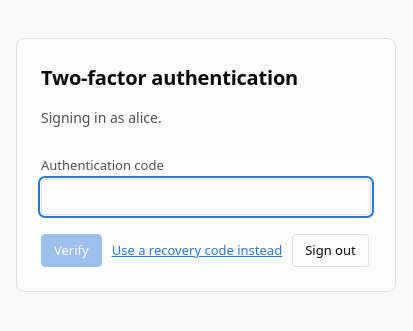
Test: TotpStep › the toggle goes back to the authentication code
Click the button "Use a recovery code instead" at (197, 251), box [112,241,282,260]
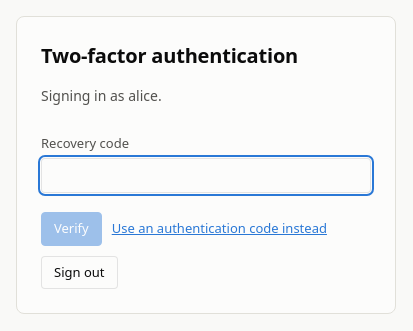
Click the button "Use an authentication code instead" at (219, 229), box [112,219,327,238]
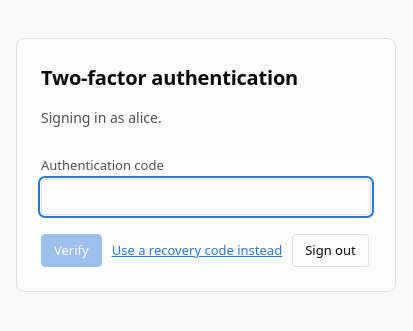
Expected: the field labelled "Authentication code" is shown, [41,179,371,215]
